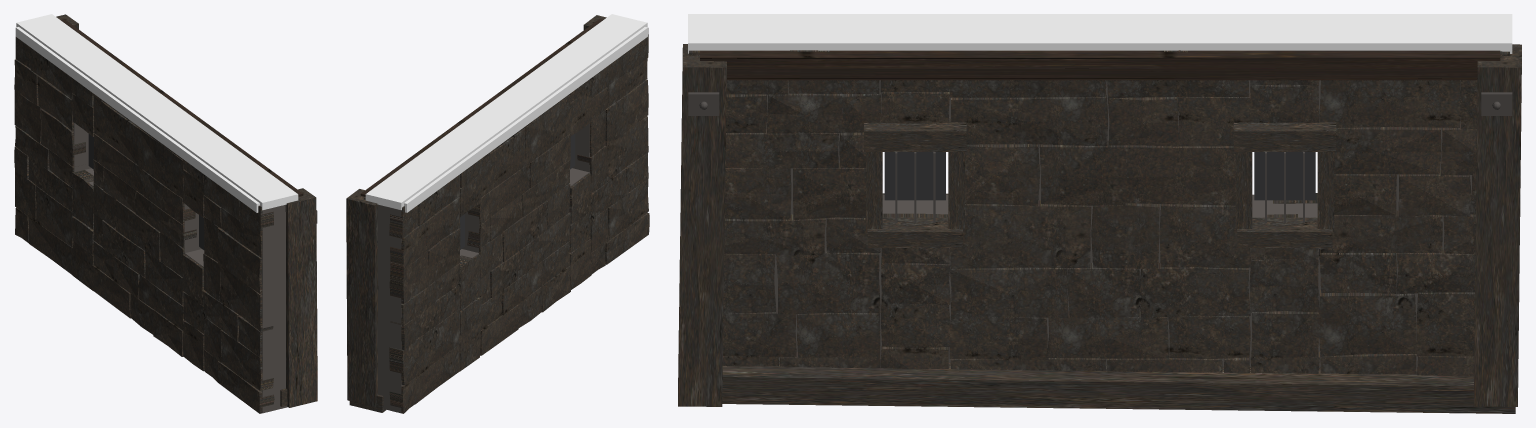
The model's file is wall_right_preview.glb.
3 renders of one model, left to right at view 1: azimuth 30°, elevation 25°; view 2: azimuth 150°, elevation 25°; view 3: azimuth 270°, elevation 25°, orthographic. The views are drawn at different scales.
Parts seen in each view (by area): view 1: ASSET_RIGHT_RIGHT_roof_bedding_stone, ASSET_RIGHT_RIGHT_load_corner_-1, ASSET_RIGHT_RIGHT_solid_0_structural, ASSET_RIGHT_RIGHT_interior_coping_return, ASSET_RIGHT_RIGHT_solid_2_InteriorPBR_6_0, ASSET_RIGHT_RIGHT_solid_2_InteriorPBR_6_1, ASSET_RIGHT_RIGHT_solid_0_InteriorPBR_4_0, ASSET_RIGHT_RIGHT_solid_0_InteriorPBR_3_0, ASSET_RIGHT_RIGHT_solid_0_InteriorPBR_1_0, ASSET_RIGHT_RIGHT_solid_2_InteriorPBR_3_1, ASSET_RIGHT_RIGHT_solid_4_InteriorPBR_1_0, ASSET_RIGHT_RIGHT_solid_4_InteriorPBR_4_0 (+49 smaller); view 2: ASSET_RIGHT_RIGHT_roof_bedding_stone, ASSET_RIGHT_RIGHT_load_corner_1, ASSET_RIGHT_RIGHT_solid_4_structural, ASSET_RIGHT_RIGHT_interior_coping_return, ASSET_RIGHT_RIGHT_solid_2_InteriorPBR_6_0, ASSET_RIGHT_RIGHT_solid_2_InteriorPBR_6_1, ASSET_RIGHT_RIGHT_solid_0_InteriorPBR_4_0, ASSET_RIGHT_RIGHT_solid_0_InteriorPBR_3_0, ASSET_RIGHT_RIGHT_solid_2_InteriorPBR_5_1, ASSET_RIGHT_RIGHT_solid_2_InteriorPBR_3_1, ASSET_RIGHT_RIGHT_solid_0_InteriorPBR_1_0, ASSET_RIGHT_RIGHT_solid_4_InteriorPBR_1_0 (+50 smaller); view 3: ASSET_RIGHT_RIGHT_roof_bedding_stone, ASSET_RIGHT_RIGHT_continuous_plinth, ASSET_RIGHT_RIGHT_wall_plate, ASSET_RIGHT_RIGHT_load_corner_-1, ASSET_RIGHT_RIGHT_load_corner_1, ASSET_RIGHT_RIGHT_solid_2_stone_3_0, ASSET_RIGHT_RIGHT_solid_2_stone_5_0, ASSET_RIGHT_RIGHT_solid_4_stone_6_0, ASSET_RIGHT_RIGHT_solid_2_stone_4_2, ASSET_RIGHT_RIGHT_solid_0_stone_2_1, ASSET_RIGHT_RIGHT_solid_4_stone_1_0, ASSET_RIGHT_RIGHT_solid_2_stone_2_0 (+66 smaller).
Boxes of the visible parts, bbox=[...] form: ASSET_RIGHT_RIGHT_roof_bedding_stone: bbox=[16, 14, 298, 210]; ASSET_RIGHT_RIGHT_load_corner_-1: bbox=[286, 188, 317, 407]; ASSET_RIGHT_RIGHT_solid_0_structural: bbox=[240, 205, 287, 413]; ASSET_RIGHT_RIGHT_interior_coping_return: bbox=[15, 27, 259, 212]; ASSET_RIGHT_RIGHT_solid_2_InteriorPBR_6_0: bbox=[137, 127, 184, 198]; ASSET_RIGHT_RIGHT_solid_2_InteriorPBR_6_1: bbox=[93, 96, 138, 165]; ASSET_RIGHT_RIGHT_solid_0_InteriorPBR_4_0: bbox=[217, 227, 262, 294]; ASSET_RIGHT_RIGHT_solid_0_InteriorPBR_3_0: bbox=[219, 266, 273, 331]; ASSET_RIGHT_RIGHT_solid_0_InteriorPBR_1_0: bbox=[220, 330, 273, 390]; ASSET_RIGHT_RIGHT_solid_2_InteriorPBR_3_1: bbox=[115, 199, 160, 260]; ASSET_RIGHT_RIGHT_solid_4_InteriorPBR_1_0: bbox=[35, 185, 73, 247]; ASSET_RIGHT_RIGHT_solid_4_InteriorPBR_4_0: bbox=[40, 109, 85, 166]; ASSET_RIGHT_RIGHT_roof_bedding_stone: bbox=[365, 14, 647, 210]; ASSET_RIGHT_RIGHT_load_corner_1: bbox=[346, 189, 377, 407]; ASSET_RIGHT_RIGHT_solid_4_structural: bbox=[378, 204, 402, 412]; ASSET_RIGHT_RIGHT_interior_coping_return: bbox=[404, 27, 647, 212]; ASSET_RIGHT_RIGHT_solid_2_InteriorPBR_6_0: bbox=[524, 95, 570, 165]; ASSET_RIGHT_RIGHT_solid_2_InteriorPBR_6_1: bbox=[480, 128, 525, 197]; ASSET_RIGHT_RIGHT_solid_0_InteriorPBR_4_0: bbox=[605, 79, 648, 145]; ASSET_RIGHT_RIGHT_solid_0_InteriorPBR_3_0: bbox=[607, 116, 648, 181]; ASSET_RIGHT_RIGHT_solid_2_InteriorPBR_5_1: bbox=[468, 163, 529, 224]; ASSET_RIGHT_RIGHT_solid_2_InteriorPBR_3_1: bbox=[502, 200, 548, 261]; ASSET_RIGHT_RIGHT_solid_0_InteriorPBR_1_0: bbox=[608, 179, 648, 239]; ASSET_RIGHT_RIGHT_solid_4_InteriorPBR_1_0: bbox=[423, 309, 460, 370]; ASSET_RIGHT_RIGHT_roof_bedding_stone: bbox=[688, 14, 1512, 53]; ASSET_RIGHT_RIGHT_continuous_plinth: bbox=[722, 360, 1515, 413]; ASSET_RIGHT_RIGHT_wall_plate: bbox=[700, 50, 1500, 80]; ASSET_RIGHT_RIGHT_load_corner_-1: bbox=[678, 44, 726, 406]; ASSET_RIGHT_RIGHT_load_corner_1: bbox=[1473, 44, 1521, 406]; ASSET_RIGHT_RIGHT_solid_2_stone_3_0: bbox=[950, 200, 1091, 268]; ASSET_RIGHT_RIGHT_solid_2_stone_5_0: bbox=[951, 92, 1107, 145]; ASSET_RIGHT_RIGHT_solid_4_stone_6_0: bbox=[1319, 80, 1460, 127]; ASSET_RIGHT_RIGHT_solid_2_stone_4_2: bbox=[1125, 145, 1235, 205]; ASSET_RIGHT_RIGHT_solid_0_stone_2_1: bbox=[776, 247, 880, 314]; ASSET_RIGHT_RIGHT_solid_4_stone_1_0: bbox=[1319, 290, 1416, 356]; ASSET_RIGHT_RIGHT_solid_2_stone_2_0: bbox=[950, 263, 1068, 317].
Bounding box in the file's own units: 0.9862 × 3.32 × 7.08.
Materials: 8 (4 with a texture image).
